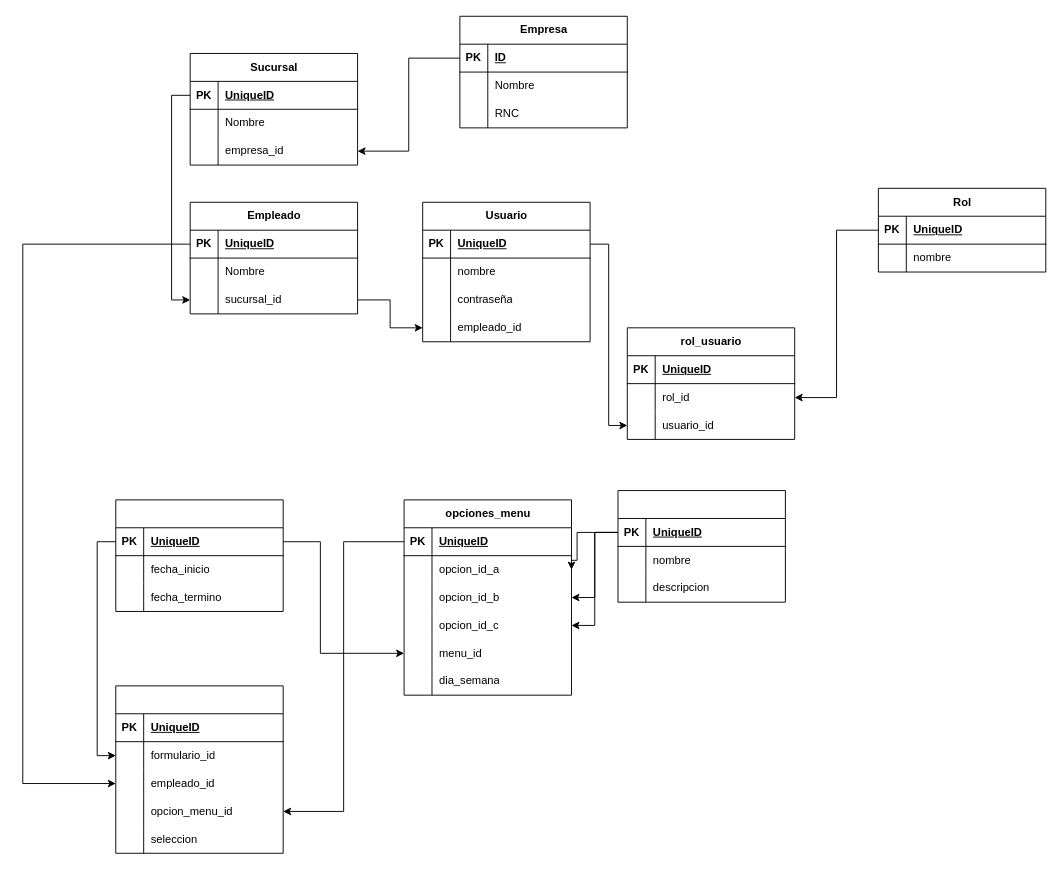
Image size: 1062x870. Some labels were removed from this diagram. The shapes that lost their labels are listed below. From the top down, each one's box as (x1, y1, x2, y2) in pixels, then its label:
(115, 499, 283, 611): menu
(617, 490, 785, 602): opciones
(115, 685, 283, 853): respuesta_formulario
